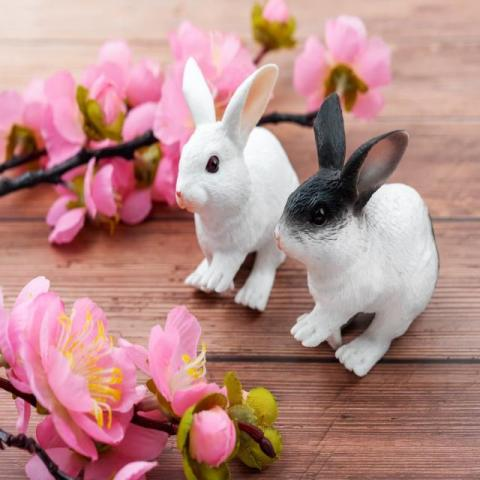small_animal: (273, 92, 441, 378), (172, 56, 302, 313)
